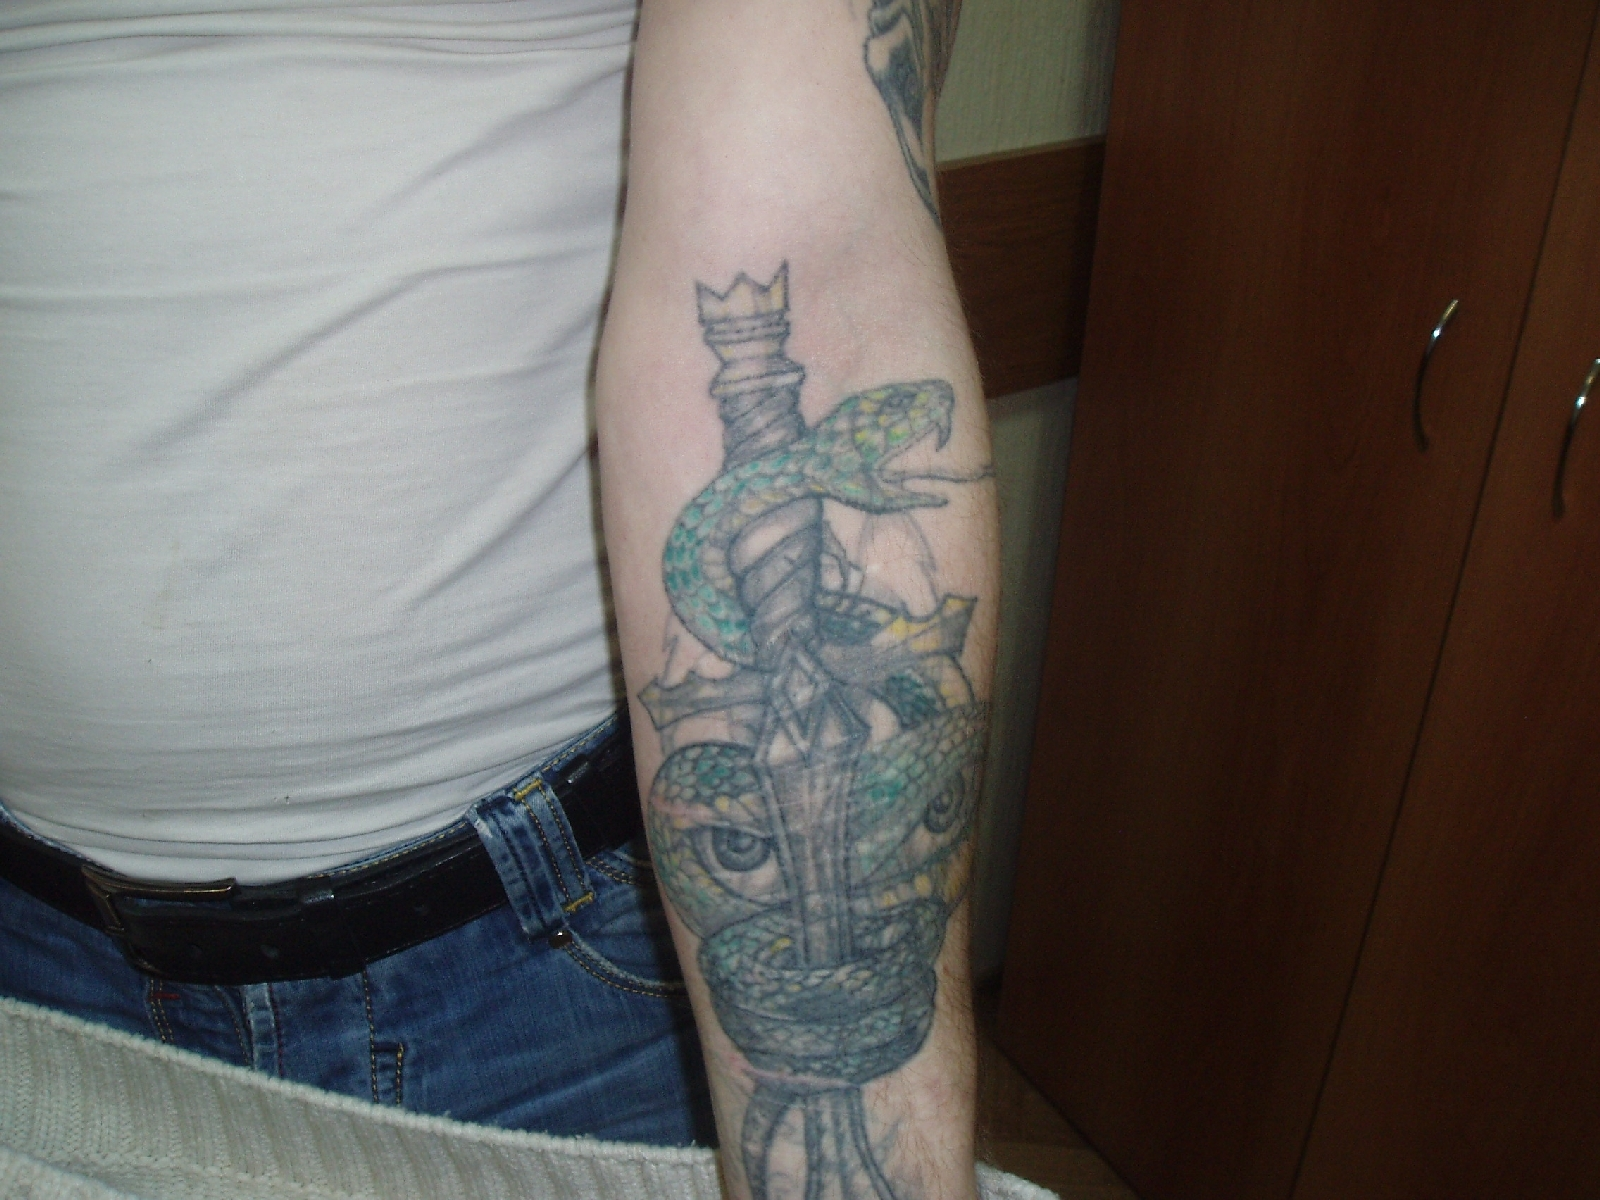tatu7_zmeya: (661, 384, 1010, 1124)
